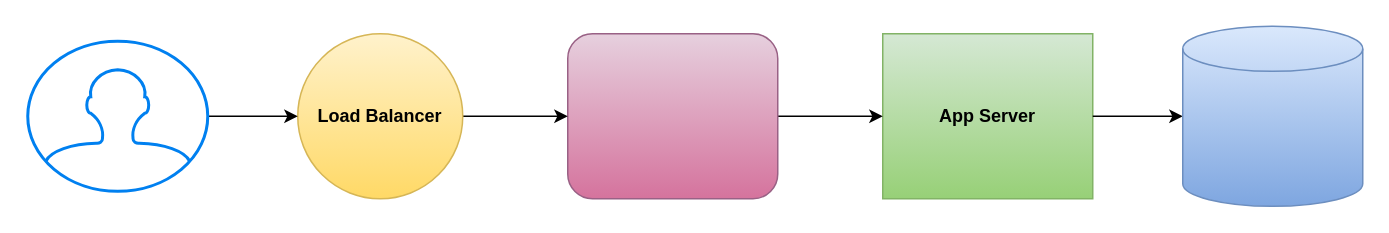
This 1389x233 diagram has some shape labels left out. Here are the shapes that lost their labels. From the top down, the centre of each, then its label:
At (672,115): "Web Server".
At (1272,115): "DB Server".
